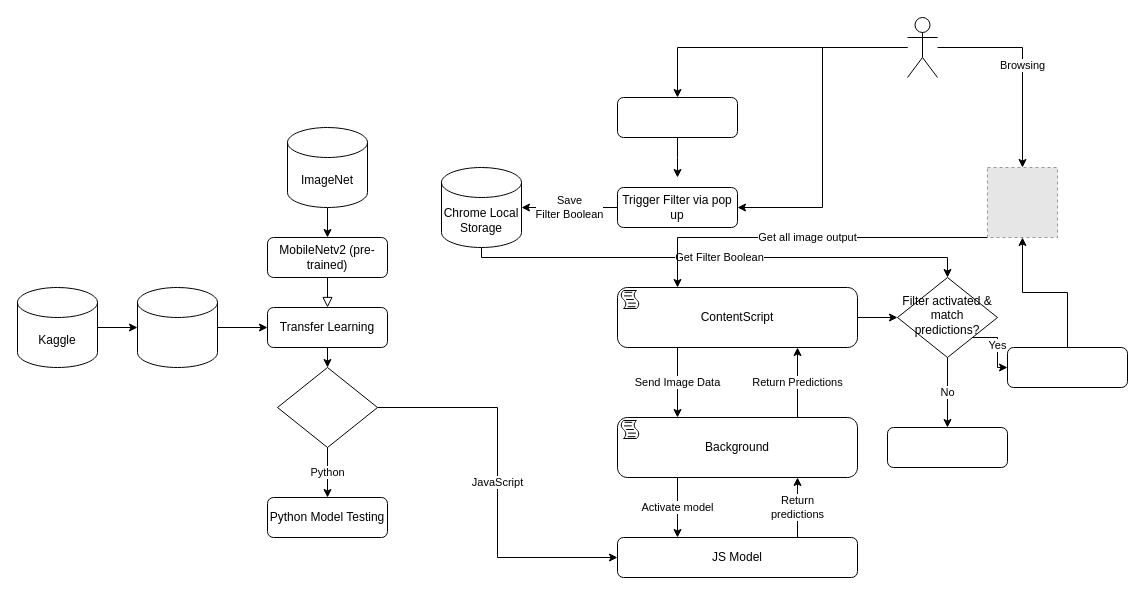
Image size: 1145x595. Some labels were removed from this diagram. Grey dashed boxes stand in for pictures. Each missing label, with the centre of its shape:
"Actor" belongs at point 922,47.
"Display prediction only" belongs at point 947,447.
"Display prediction, change Image" belongs at point 1067,367.
"Dog/ Cat/ Snake/ Trypo/ Others Pics" belongs at point 177,327.
"Install extension" belongs at point 677,117.
"Saving model output" belongs at point 327,407.
